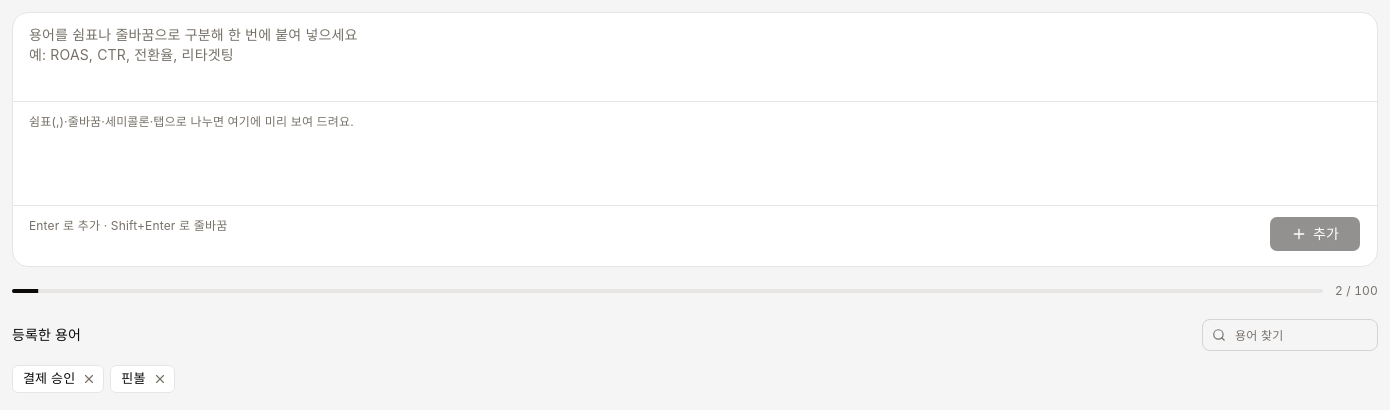
Scenario: TermEditor 여러 개 한 번에 › 용어 찾기로 등록한 칩을 거른다
The image size is (1390, 410).
Step 1. Type "핀" into the field labelled "용어 찾기" → x=1290, y=335, box [1202,319,1378,351]
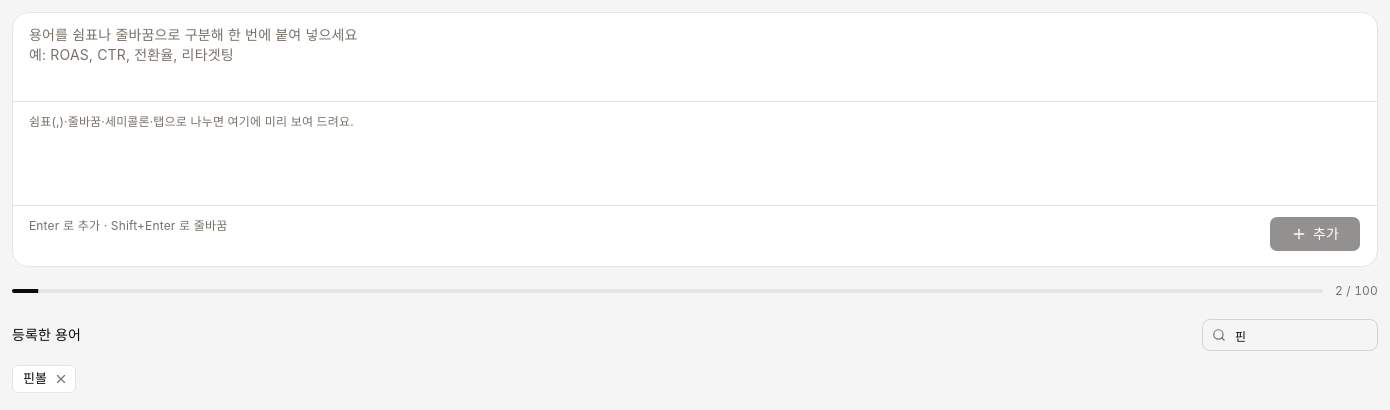
Check: the list named "넣은 용어" reads "핀볼", box [23,370,47,386]
Check: the list named "넣은 용어" no longer shows "결제 승인", box [12,365,76,393]
